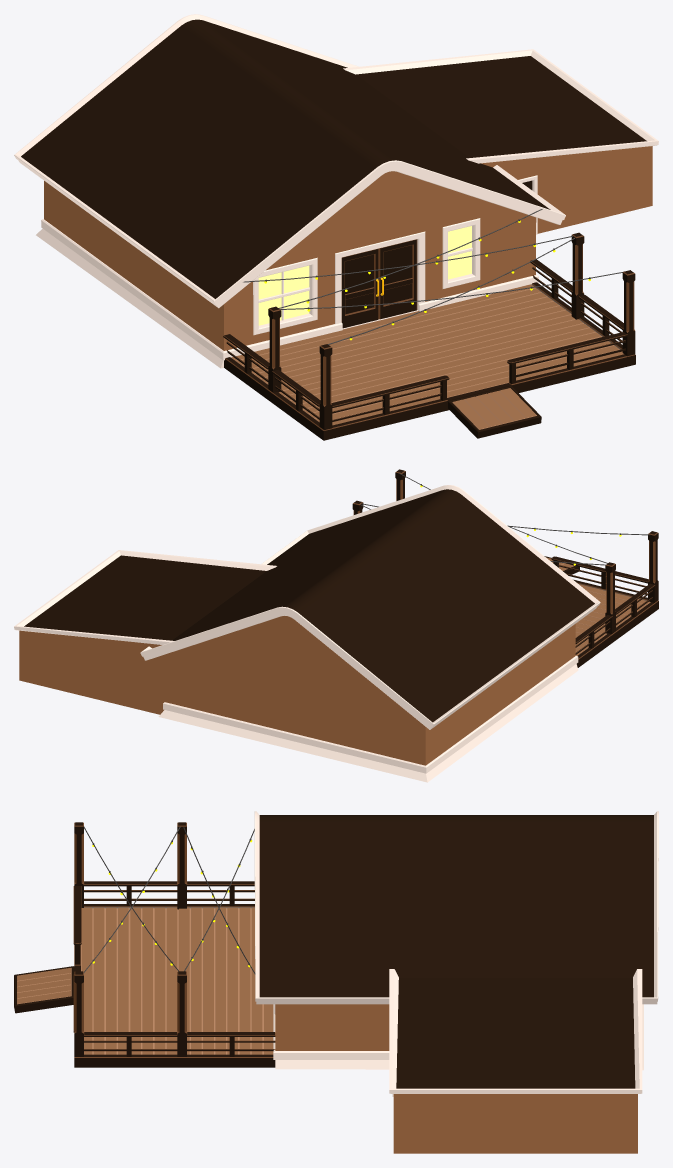
The model's file is Restaurant.fbx.
3 renders of one model, top to bottom at view 1: azimuth 30°, elevation 25°; view 2: azimuth 150°, elevation 25°; view 3: azimuth 270°, elevation 25°, orthographic. The views are drawn at different scales.
Parts seen in each view (by area): view 1: Building, deck, fence, lightPosts, ramp, door1, door2, lightStrings; view 2: Building, deck, fence, lightPosts, lightStrings; view 3: Building, deck, fence, lightPosts, ramp, lightStrings.
Part boxes in pixels (box(x1,y1,x2,y2)): Building: box(14, 14, 658, 368); deck: box(224, 282, 635, 440); fence: box(223, 259, 627, 421); lightPosts: box(268, 232, 635, 430); ramp: box(448, 386, 541, 438); door1: box(378, 239, 417, 319); door2: box(341, 248, 378, 328); lightStrings: box(243, 209, 623, 344); Building: box(14, 485, 600, 782); deck: box(573, 579, 658, 667); fence: box(551, 556, 655, 654); lightPosts: box(352, 469, 658, 633); lightStrings: box(360, 473, 649, 565); Building: box(254, 811, 658, 1153); deck: box(74, 904, 275, 1067); fence: box(73, 881, 275, 1056); lightPosts: box(74, 822, 186, 1056); ramp: box(14, 966, 74, 1013); lightStrings: box(83, 826, 255, 974).
Size of the model in its own units: 27.8 by 9.46 by 30.13.
